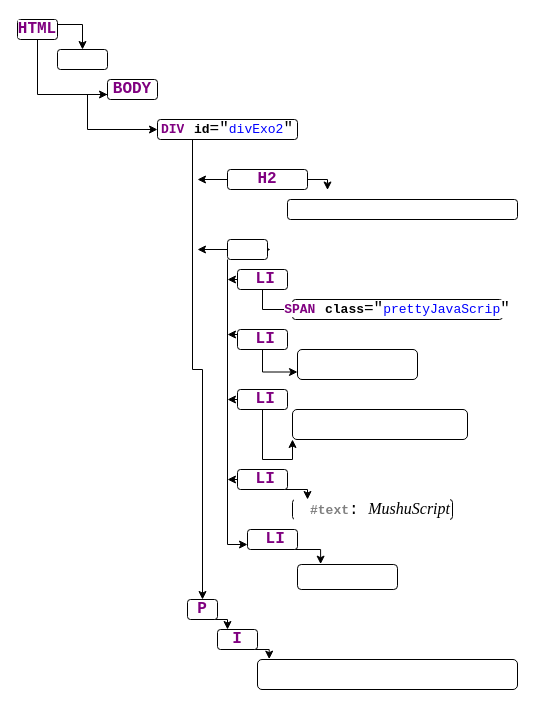
The diagram is 535 pixels wide and 707 high, and some of its shapes have lost their labels. Here are the shapes that lost their labels. From the top down, the centre of each, then its label:
At (x=82, y=59): "HEAD".
At (x=402, y=209): "text : Languages base on ECMAScript".
At (x=247, y=249): "UL".
At (x=357, y=364): "#text : JScript".
At (x=380, y=424): "#text : ActionScript".
At (x=347, y=577): "#text : EX4".
At (x=387, y=674): "#text : Other languages to come!".
